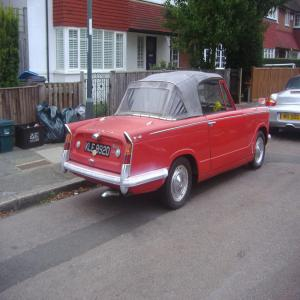Vehicle-registration-plate: (86, 141, 111, 157), (282, 114, 300, 121)
